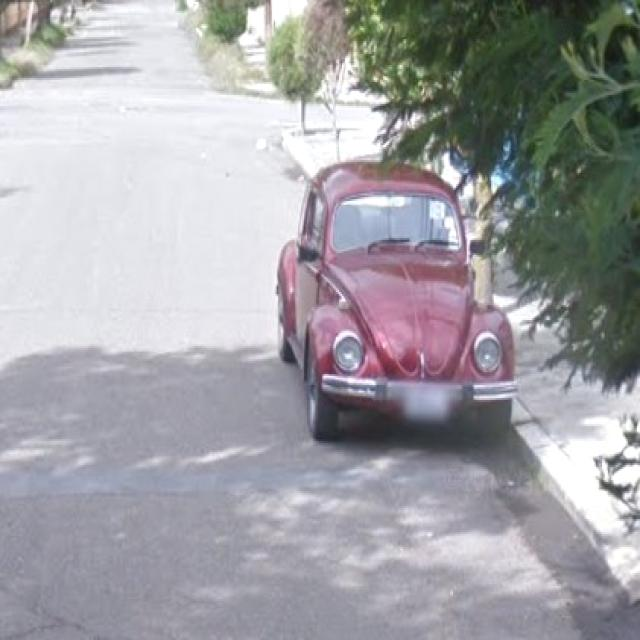car: (270, 165, 528, 449)
